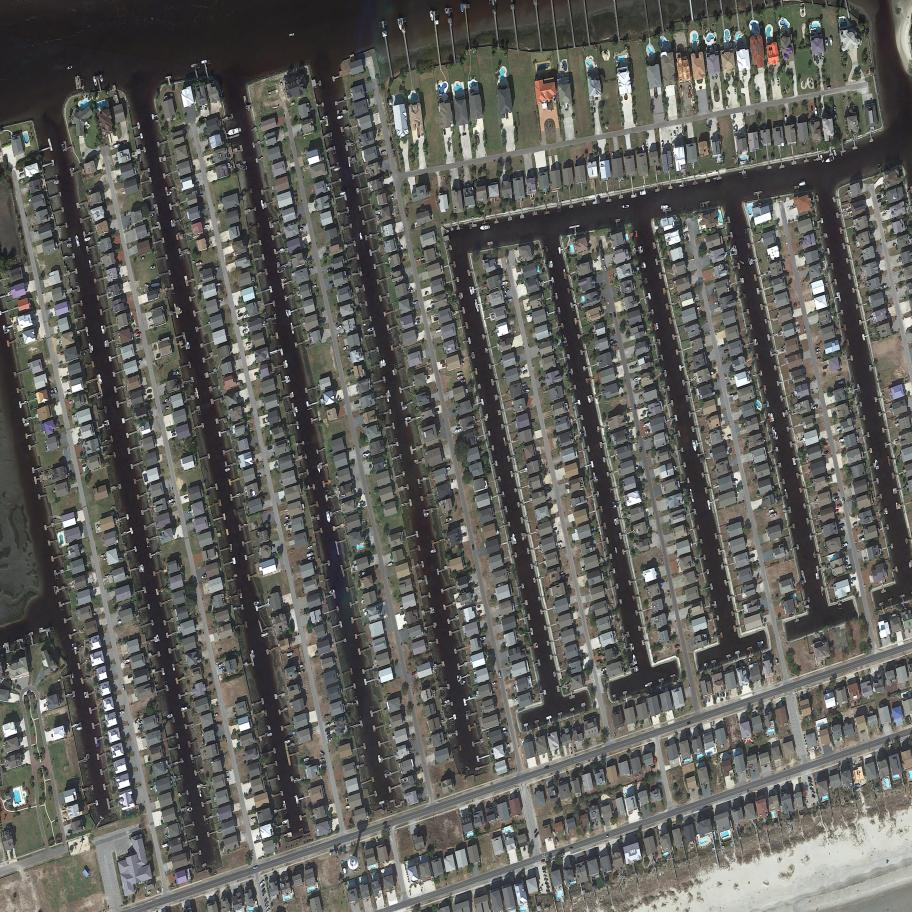ship: (227, 128, 242, 136), (479, 224, 491, 231), (874, 458, 880, 470), (97, 373, 103, 385), (825, 156, 835, 163), (512, 532, 517, 545), (326, 510, 331, 523), (692, 440, 697, 453), (397, 18, 402, 31), (75, 234, 80, 247), (358, 570, 367, 577), (642, 422, 651, 429), (112, 142, 121, 149), (83, 236, 92, 243), (632, 376, 642, 382), (335, 324, 343, 331), (281, 818, 289, 825), (632, 654, 637, 665), (770, 412, 775, 423), (93, 75, 98, 86), (260, 199, 265, 210), (429, 10, 434, 21), (660, 204, 669, 210), (305, 552, 314, 558), (277, 267, 286, 273), (260, 632, 269, 638), (140, 564, 146, 573), (361, 453, 371, 458), (151, 283, 161, 288), (285, 308, 290, 318), (53, 585, 58, 595), (820, 155, 826, 163), (798, 181, 806, 187), (769, 512, 777, 518), (879, 284, 887, 290), (242, 313, 250, 319), (334, 166, 342, 172), (195, 261, 203, 267), (180, 706, 188, 712), (166, 713, 174, 719), (196, 783, 204, 789), (166, 498, 174, 504), (587, 395, 592, 404), (630, 642, 635, 651), (774, 431, 779, 440), (61, 143, 66, 152), (814, 106, 818, 117), (580, 566, 587, 572), (479, 636, 486, 642), (201, 574, 208, 580), (118, 710, 125, 716), (829, 36, 833, 46), (522, 389, 530, 394), (456, 675, 461, 683), (445, 517, 453, 522), (317, 464, 321, 474), (497, 583, 505, 588), (639, 245, 644, 253), (99, 74, 104, 82), (251, 649, 255, 659), (469, 285, 473, 295), (366, 327, 374, 332), (339, 191, 347, 196), (101, 325, 105, 335), (172, 371, 180, 376), (521, 532, 525, 541), (378, 754, 382, 763), (281, 277, 287, 283), (382, 358, 386, 367), (359, 231, 363, 240), (156, 634, 160, 643), (443, 699, 450, 704), (387, 562, 394, 567), (456, 376, 463, 381), (401, 406, 408, 411), (444, 466, 451, 471), (465, 466, 472, 471), (306, 545, 313, 550), (822, 451, 829, 456), (66, 65, 73, 70), (53, 180, 60, 185), (203, 224, 210, 229), (253, 600, 260, 605), (283, 522, 290, 527), (224, 467, 231, 472), (435, 329, 442, 334), (337, 115, 344, 120), (284, 739, 291, 744), (178, 307, 183, 314), (23, 422, 30, 427), (164, 398, 171, 403), (3, 329, 10, 334), (149, 265, 156, 270), (166, 191, 173, 196), (123, 659, 130, 664), (70, 414, 77, 419), (501, 281, 509, 285), (815, 573, 819, 581), (643, 261, 647, 269), (387, 390, 391, 398), (285, 360, 289, 368), (186, 341, 190, 349), (170, 220, 174, 228), (345, 805, 351, 810), (460, 680, 466, 685), (303, 757, 309, 762), (739, 260, 745, 265), (322, 115, 328, 120), (116, 620, 122, 625), (413, 300, 419, 305), (407, 289, 413, 294), (250, 818, 256, 823), (69, 400, 75, 405), (833, 149, 837, 156), (455, 429, 462, 433), (775, 659, 779, 666), (308, 557, 315, 561), (405, 417, 412, 421), (241, 166, 248, 170), (285, 516, 292, 520), (295, 406, 299, 413), (380, 360, 384, 367), (194, 387, 198, 394), (76, 726, 83, 730), (825, 38, 828, 47), (553, 95, 556, 104), (642, 144, 645, 153), (661, 141, 664, 150), (461, 3, 464, 12), (614, 518, 617, 526), (622, 205, 630, 208), (556, 542, 562, 546), (430, 549, 436, 553), (460, 380, 466, 384), (457, 372, 463, 376), (772, 426, 775, 434), (329, 590, 335, 594), (28, 198, 34, 202), (896, 502, 899, 510), (69, 167, 75, 171), (289, 33, 295, 37), (291, 392, 295, 398), (420, 259, 426, 263), (267, 733, 273, 737), (104, 340, 107, 348), (84, 691, 87, 699), (615, 546, 618, 553), (635, 665, 638, 672), (735, 126, 738, 133), (885, 507, 888, 514), (748, 258, 751, 265), (733, 245, 736, 252), (656, 322, 659, 329), (892, 488, 895, 495), (287, 375, 290, 382), (445, 8, 448, 15), (392, 369, 395, 376), (421, 132, 424, 139), (424, 512, 429, 516), (726, 435, 731, 439), (343, 346, 348, 350), (420, 257, 425, 261), (415, 258, 420, 262), (82, 464, 87, 468), (209, 897, 212, 903), (535, 642, 538, 648), (612, 153, 615, 159), (838, 381, 844, 384), (733, 491, 739, 494), (782, 412, 785, 418), (155, 276, 159, 280), (196, 394, 199, 399), (91, 345, 93, 352), (742, 277, 744, 283), (909, 562, 911, 568), (329, 281, 333, 284), (401, 260, 405, 263)
small-vehicle: (854, 784, 861, 790), (534, 831, 539, 839), (880, 201, 888, 206), (837, 523, 845, 528), (327, 737, 333, 743), (538, 375, 544, 381), (259, 880, 264, 887), (529, 419, 536, 424), (324, 727, 331, 732), (255, 473, 262, 478), (833, 497, 840, 502), (136, 359, 143, 364), (103, 574, 110, 579), (159, 364, 163, 372), (601, 667, 607, 672), (319, 752, 325, 757), (262, 891, 267, 897), (261, 883, 266, 889), (411, 671, 417, 676), (544, 766, 550, 771), (347, 372, 353, 377), (564, 574, 570, 579), (354, 400, 360, 405), (267, 445, 273, 450), (325, 730, 331, 735), (597, 652, 603, 657), (602, 670, 608, 675), (533, 828, 538, 834), (544, 881, 550, 886), (545, 888, 551, 893), (808, 783, 814, 788), (877, 198, 883, 203), (744, 445, 750, 450), (841, 498, 846, 504), (712, 301, 718, 306), (146, 389, 152, 394), (242, 329, 248, 334), (125, 662, 131, 667), (135, 718, 140, 724), (821, 56, 825, 63), (325, 723, 332, 727), (433, 317, 440, 321), (237, 313, 244, 317), (217, 298, 224, 302), (199, 104, 203, 111), (291, 191, 298, 195), (613, 311, 617, 318), (170, 429, 177, 433), (836, 504, 843, 508), (54, 388, 58, 395), (122, 685, 126, 692), (326, 734, 331, 739), (264, 901, 269, 906), (263, 897, 268, 902), (288, 524, 293, 529), (19, 168, 24, 173), (100, 553, 105, 558), (852, 104, 856, 110), (522, 371, 528, 375), (569, 748, 573, 754), (504, 289, 510, 293), (492, 681, 498, 685), (499, 670, 502, 678), (324, 715, 330, 719), (399, 606, 405, 610), (461, 533, 467, 537), (252, 865, 258, 869), (552, 527, 558, 531), (270, 545, 276, 549), (236, 381, 242, 385), (323, 254, 329, 258), (618, 386, 624, 390), (540, 859, 546, 863), (629, 366, 635, 370), (542, 875, 548, 879), (543, 878, 549, 882), (809, 787, 815, 791), (876, 195, 882, 199), (834, 509, 840, 513), (375, 837, 379, 843), (222, 669, 228, 673), (850, 578, 856, 582), (852, 523, 858, 527), (19, 173, 25, 177), (147, 395, 153, 399), (826, 475, 832, 479), (298, 227, 304, 231), (245, 342, 251, 346), (326, 268, 332, 272), (57, 362, 63, 366), (136, 333, 142, 337), (147, 318, 153, 322), (144, 283, 150, 287), (50, 392, 56, 396), (604, 265, 607, 272), (676, 128, 679, 135), (673, 131, 676, 138), (472, 544, 475, 551), (390, 137, 393, 144), (826, 86, 831, 90), (726, 91, 730, 96), (508, 298, 513, 302), (476, 605, 481, 609), (503, 730, 508, 734), (320, 758, 325, 762), (265, 905, 269, 910), (261, 887, 265, 892), (426, 307, 431, 311), (566, 585, 571, 589), (346, 369, 351, 373), (811, 794, 816, 798), (651, 765, 656, 769), (569, 847, 574, 851), (555, 839, 559, 844), (811, 791, 816, 795), (808, 780, 813, 784), (730, 376, 735, 380), (733, 392, 738, 396), (208, 681, 213, 685), (720, 344, 725, 348), (724, 350, 729, 354), (696, 306, 701, 310), (683, 232, 688, 236), (188, 510, 193, 514), (92, 612, 97, 616), (60, 352, 65, 356), (882, 213, 887, 217), (815, 348, 820, 352), (812, 405, 817, 409), (242, 325, 247, 329), (312, 284, 317, 288), (309, 267, 314, 271), (218, 663, 223, 667), (220, 666, 224, 671), (440, 360, 445, 364), (214, 713, 219, 717), (56, 337, 61, 341), (149, 325, 154, 329), (140, 257, 145, 261), (33, 230, 38, 234), (137, 728, 142, 732), (140, 737, 145, 741), (102, 557, 107, 561), (520, 367, 526, 370), (521, 383, 527, 386), (734, 89, 737, 95), (654, 757, 657, 763), (388, 194, 394, 197), (596, 661, 602, 664), (292, 195, 298, 198), (807, 777, 813, 780), (204, 105, 207, 111), (392, 151, 395, 157), (542, 867, 546, 871), (817, 357, 821, 361), (134, 329, 138, 333), (49, 389, 53, 393), (150, 787, 154, 791), (184, 496, 188, 500), (172, 433, 176, 437), (477, 611, 482, 614), (211, 161, 216, 164), (729, 395, 734, 398), (640, 415, 645, 418), (645, 431, 650, 434), (833, 494, 838, 497), (162, 402, 167, 405), (816, 351, 821, 354), (301, 224, 306, 227), (415, 319, 420, 322), (381, 151, 386, 154), (135, 336, 140, 339), (198, 194, 203, 197), (138, 721, 143, 724), (138, 724, 143, 727), (59, 426, 64, 429), (164, 407, 169, 410), (777, 79, 779, 86), (772, 79, 774, 86), (834, 107, 836, 113), (667, 140, 669, 146), (272, 553, 276, 556), (543, 872, 547, 875), (546, 886, 550, 889), (614, 342, 618, 345), (391, 144, 393, 149), (726, 384, 730, 386)
